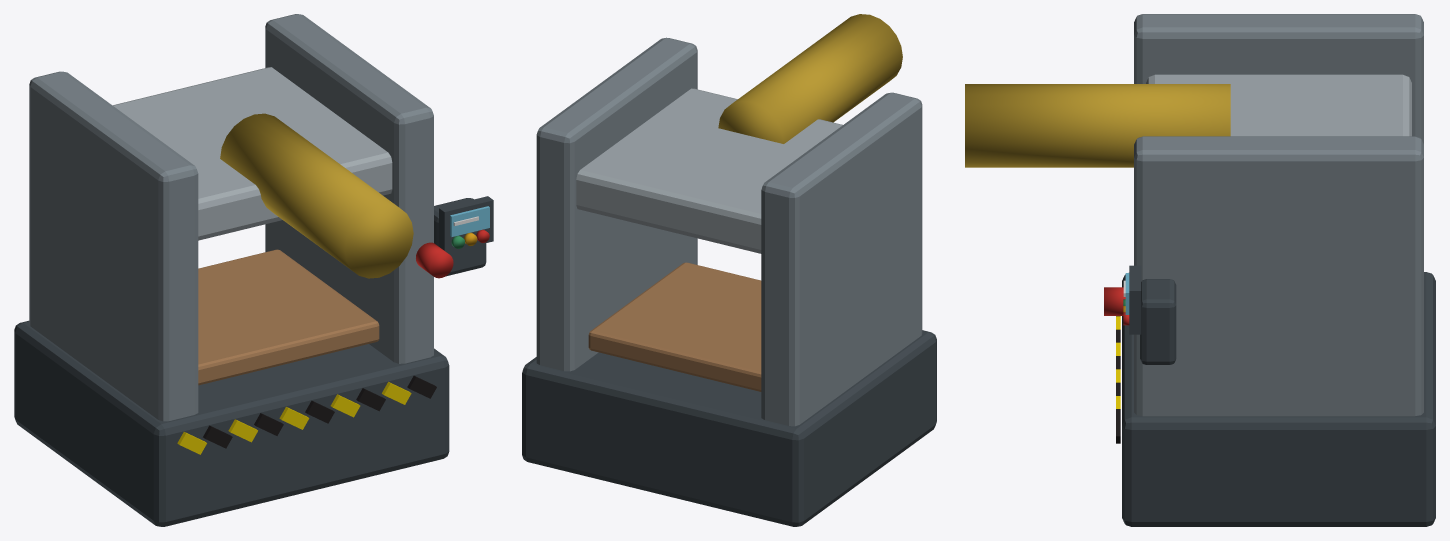
The model's file is m_diecut.glb.
The picture shows the model from 3 angles, left to right: view 1: azimuth 30°, elevation 25°; view 2: azimuth 150°, elevation 25°; view 3: azimuth 270°, elevation 25°; orthographic projection. The views are drawn at different scales.
Visible parts, largest first — view 1: m_diecut; view 2: m_diecut; view 3: m_diecut.
Part boxes in pixels (<box>): m_diecut: <box>14,14,493,526</box>; m_diecut: <box>522,14,936,526</box>; m_diecut: <box>965,14,1435,526</box>.
Bounding box in the file's own units: 0.345 × 0.34 × 0.39.
